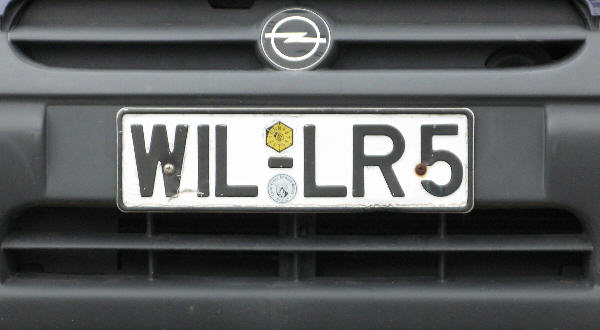license_plate: (117, 107, 474, 212)
